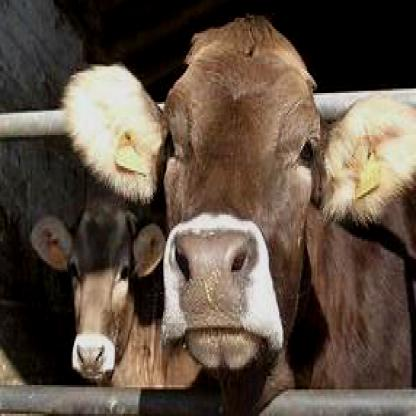cow: (64, 15, 415, 414), (30, 197, 166, 381)
